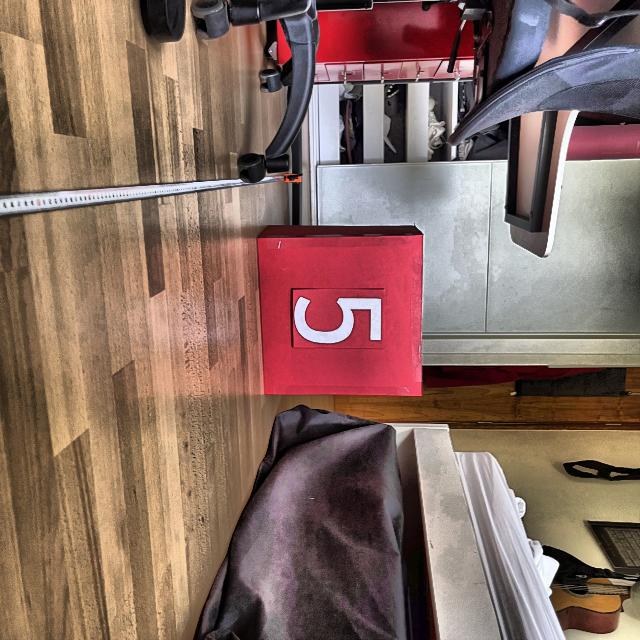five: (294, 294, 384, 346)
red box: (255, 225, 424, 399)
